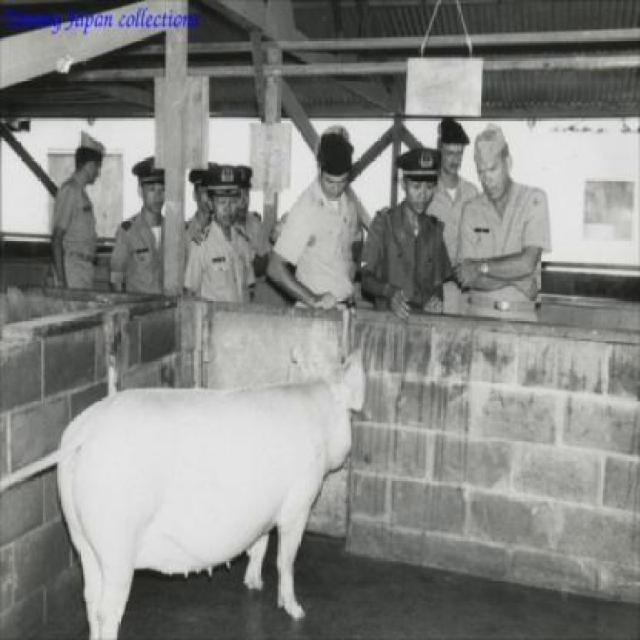Boar: (57, 346, 368, 640)
